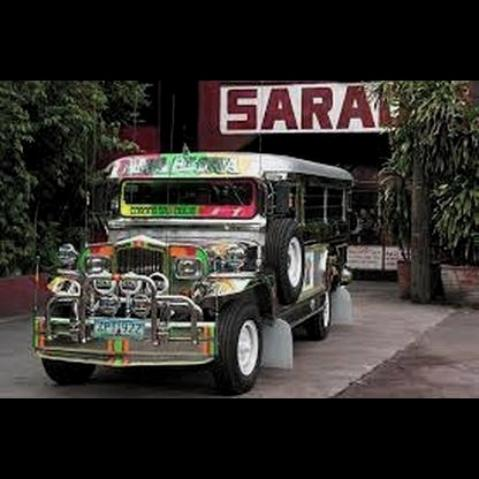jeepney: (38, 130, 373, 393)
